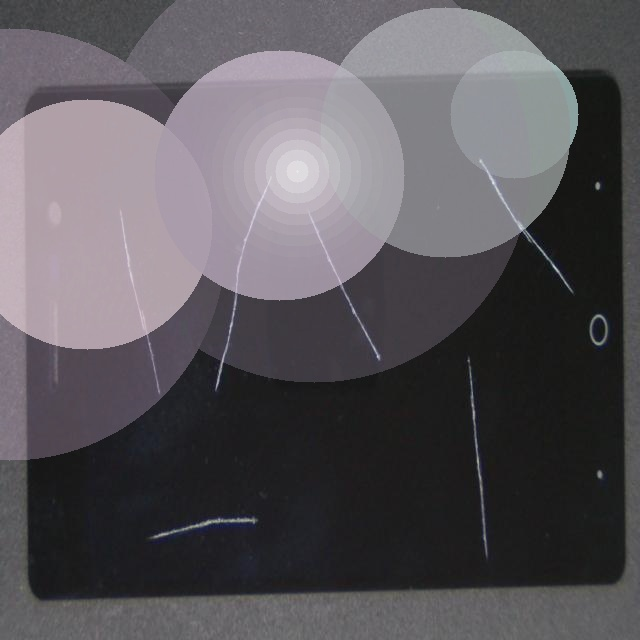scratch: (166, 0, 363, 355), (233, 264, 547, 463)
